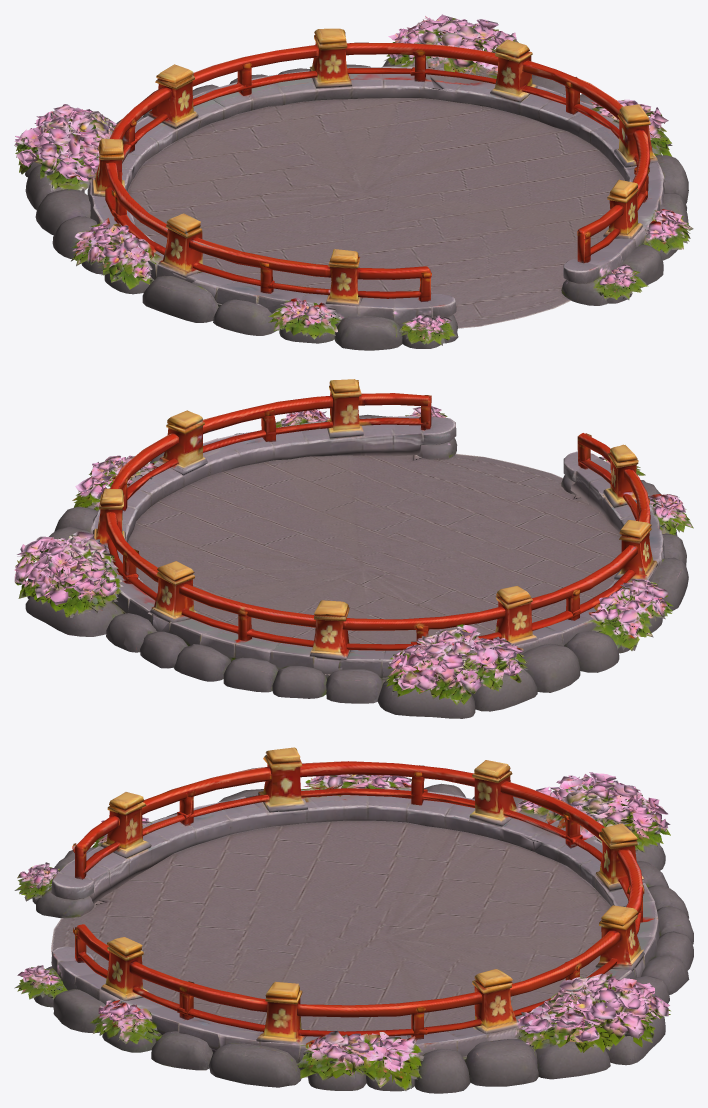
Rendered from Sakura_Terrace.fbx.
3 renders of one model, top to bottom at view 1: azimuth 30°, elevation 25°; view 2: azimuth 150°, elevation 25°; view 3: azimuth 270°, elevation 25°, orthographic. The views are drawn at different scales.
Visible parts, largest first — view 1: Mesh_0; view 2: Mesh_0; view 3: Mesh_0.
Boxes of the visible parts, x1,y1,x2,y2 form: Mesh_0: (14,14,693,350); Mesh_0: (14,379,693,718); Mesh_0: (14,747,693,1093).
Bounding box in the file's own units: 94.97 × 11.91 × 90.53.
1 material, 1 textured.
